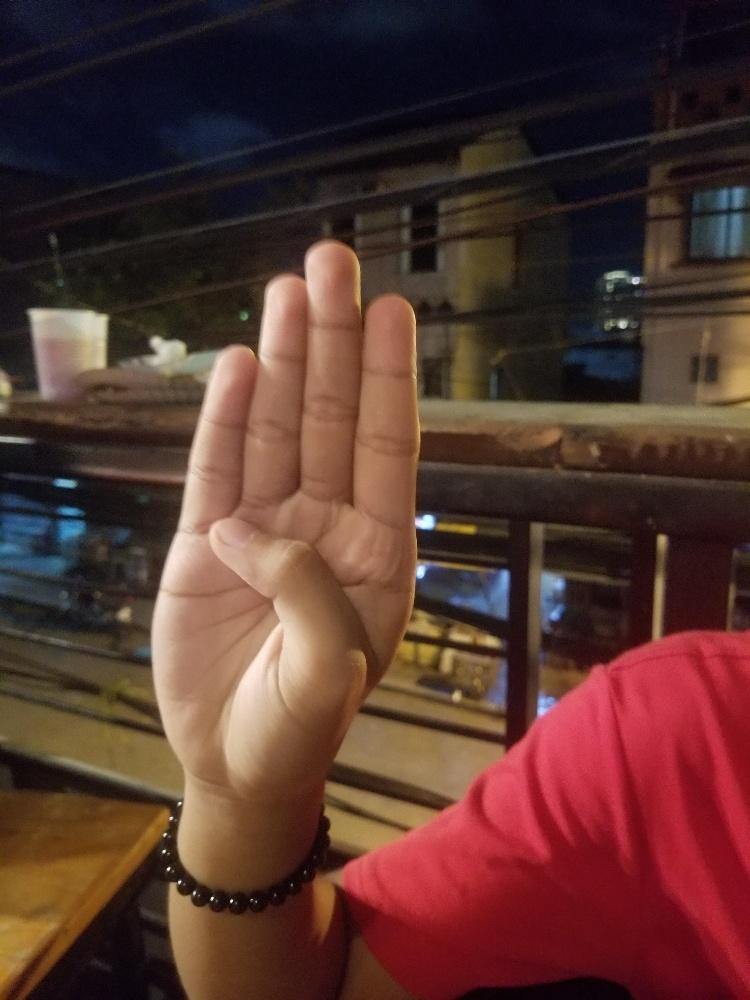b: (151, 241, 419, 778)
